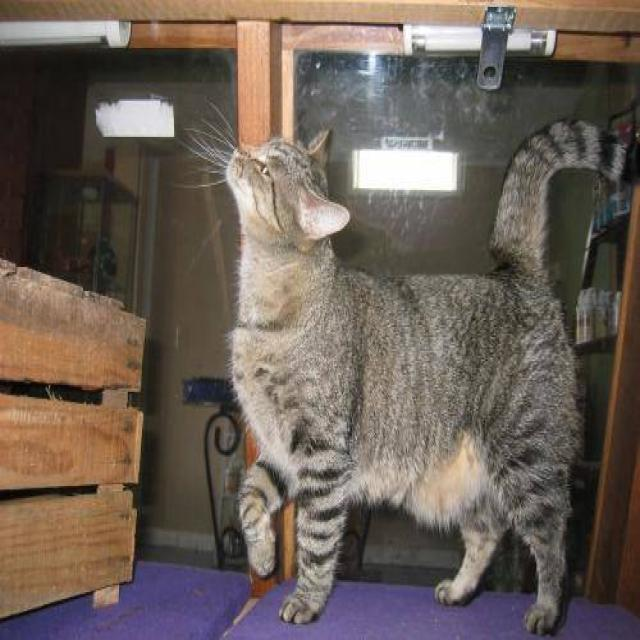cat: (173, 103, 630, 635)
